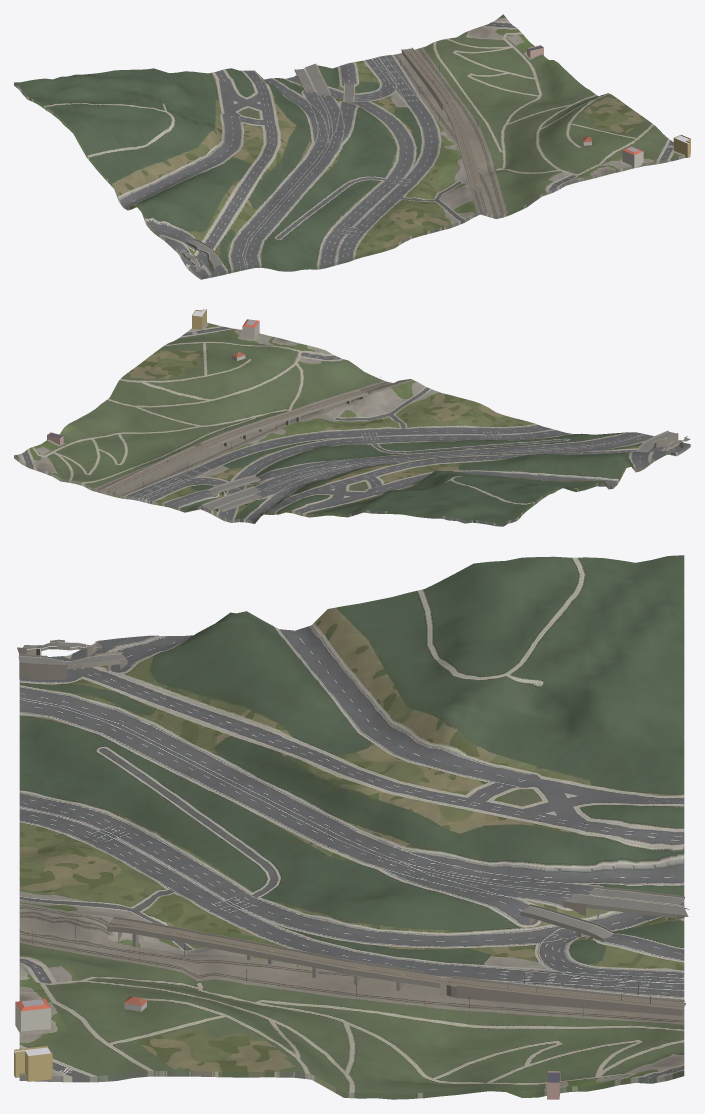
3 renders of one model, top to bottom at view 1: azimuth 30°, elevation 25°; view 2: azimuth 150°, elevation 25°; view 3: azimuth 270°, elevation 25°, orthographic. The views are drawn at different scales.
Parts seen in each view (by area): view 1: terrain, buildings; view 2: terrain, buildings; view 3: terrain, buildings.
Boxes of the visible parts, x1=… form: terrain: x1=14, y1=14, x2=690, y2=279; buildings: x1=178, y1=45, x2=690, y2=273; terrain: x1=14, y1=322, x2=690, y2=526; buildings: x1=47, y1=309, x2=690, y2=512; terrain: x1=19, y1=555, x2=684, y2=1099; buildings: x1=14, y1=639, x2=689, y2=1099.
Size of the model in its own units: 505 by 77.56 by 337.
Materials: 2 (1 with a texture image).
